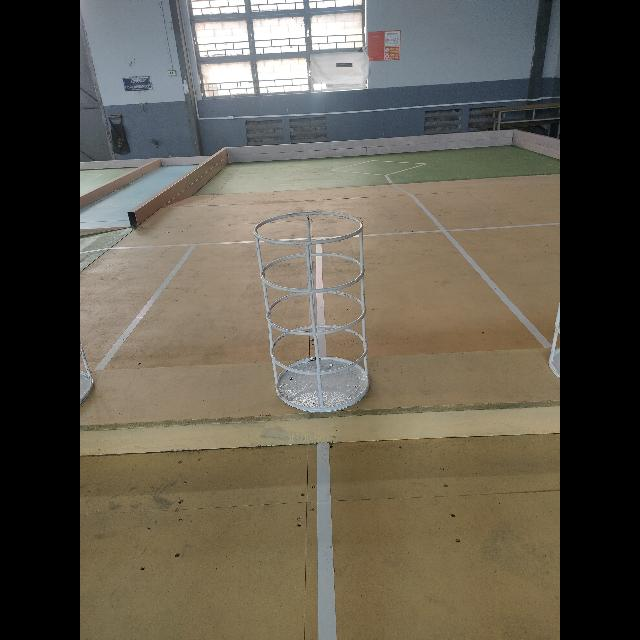S: (252, 208, 374, 415)
